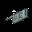Win: (4, 5, 30, 27)
